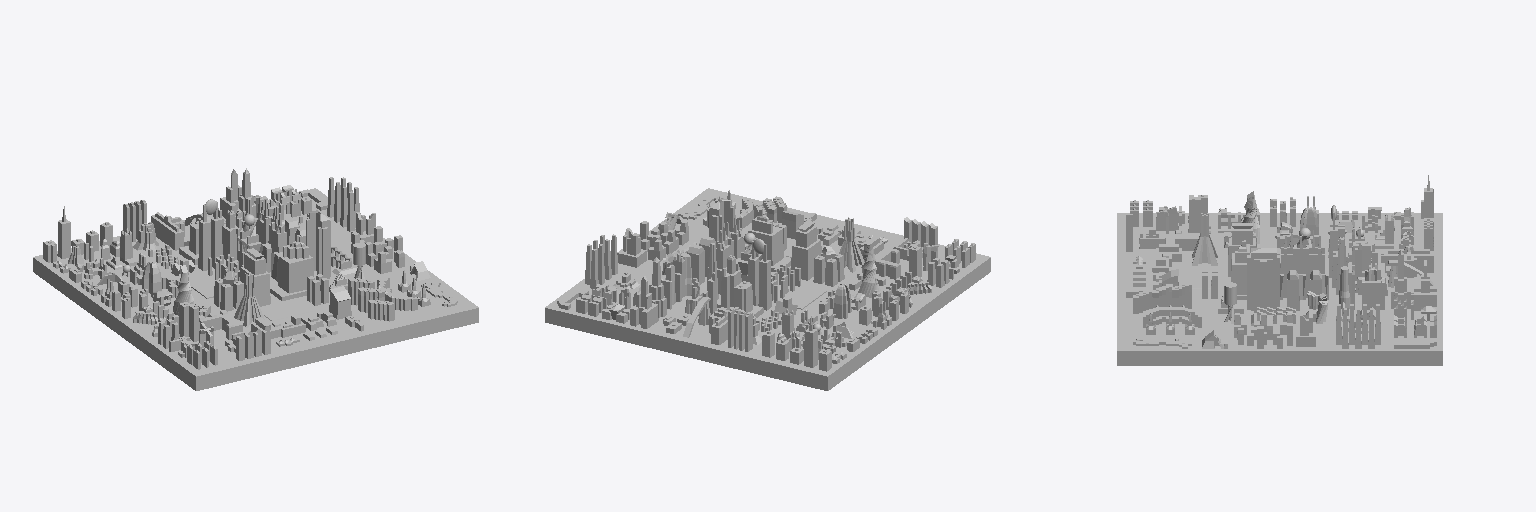
The model's file is future_city.obj.
3 renders of one model, left to right at view 1: azimuth 30°, elevation 25°; view 2: azimuth 150°, elevation 25°; view 3: azimuth 270°, elevation 25°, orthographic.
Visible parts, largest first — view 1: city; view 2: city; view 3: city.
Boxes of the visible parts, box(x1,y1,x2,y2) form: city: box(33, 168, 478, 390); city: box(545, 188, 990, 390); city: box(1117, 175, 1442, 365).
Bounding box in the file's own units: 5 × 1.39 × 5.